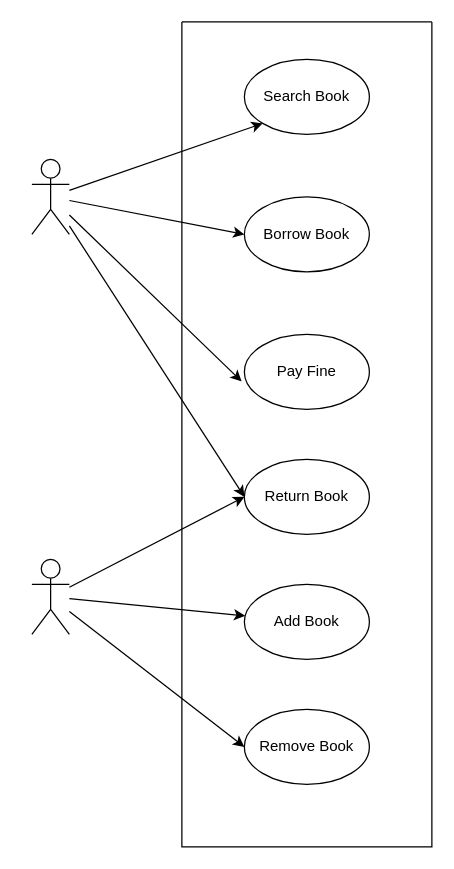
The diagram is 454 pixels wide and 869 high, and some of its shapes have lost their labels. Here are the shapes that lost their labels. From the top down, the centre of each, then its label:
At (x=50, y=196): "Member".
At (x=50, y=596): "Librarian".
